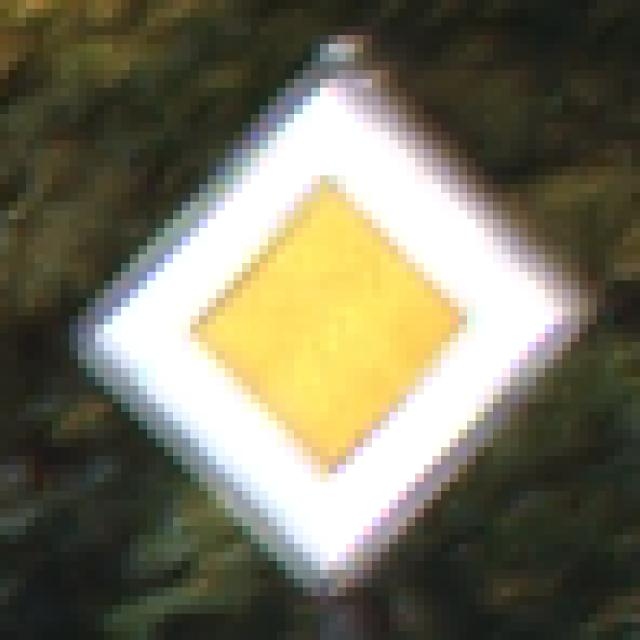Main Road: (62, 54, 589, 589)
